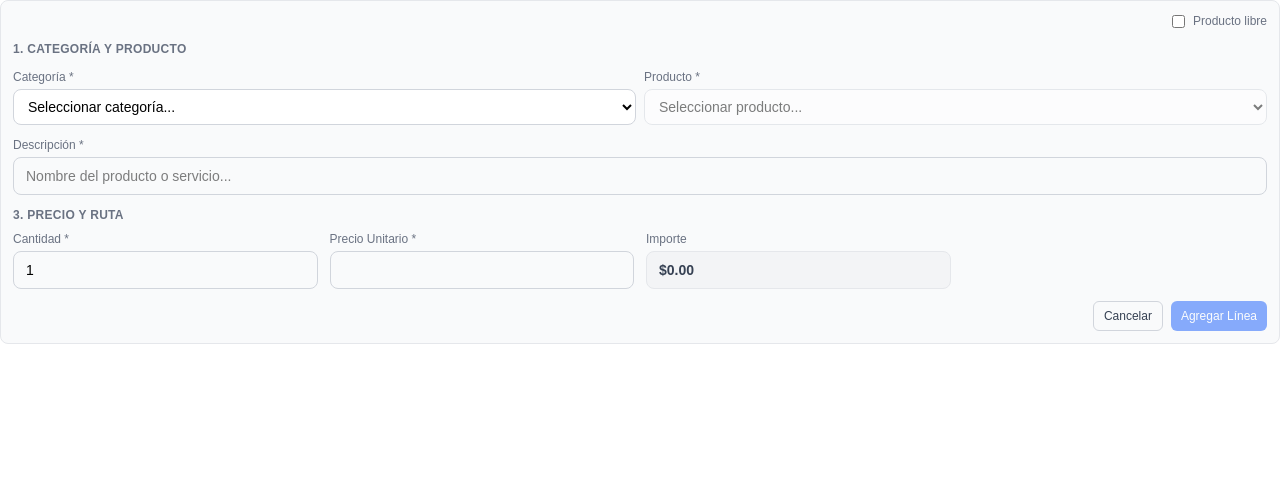
Test: LineaPedido (catálogo) › autocompleta el precio de lista y permite modificarlo
This screenshot has width=1280, height=477.
Select "Photo Books" in the dropdown below "Categoría *" at (324, 107), box top-left (13, 89), bottom-right (636, 125)
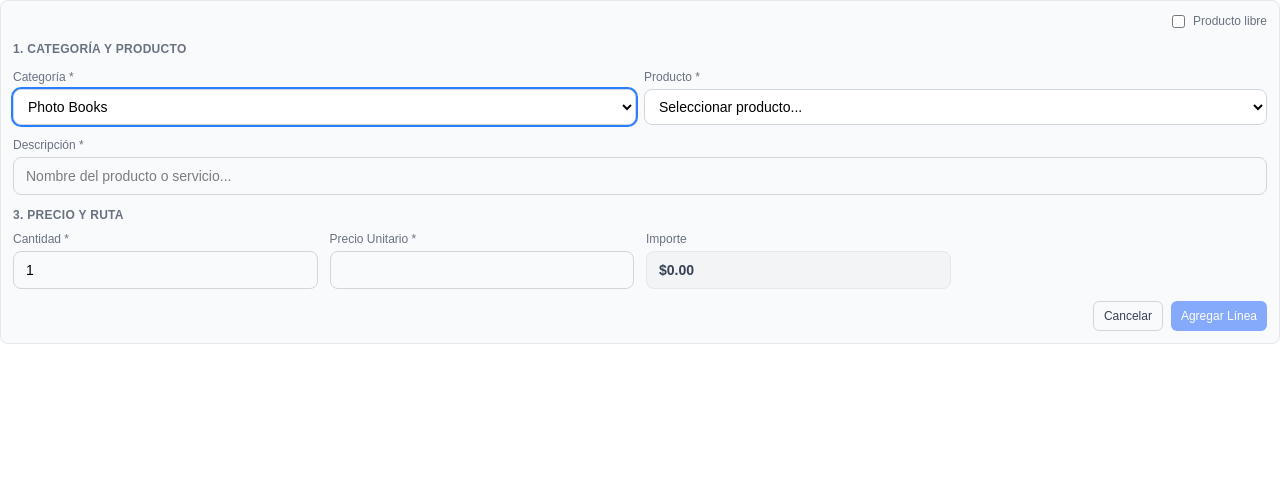
Select "Color Book Pasta Dura" in the dropdown below "Producto *" at (956, 107), box top-left (644, 89), bottom-right (1267, 125)
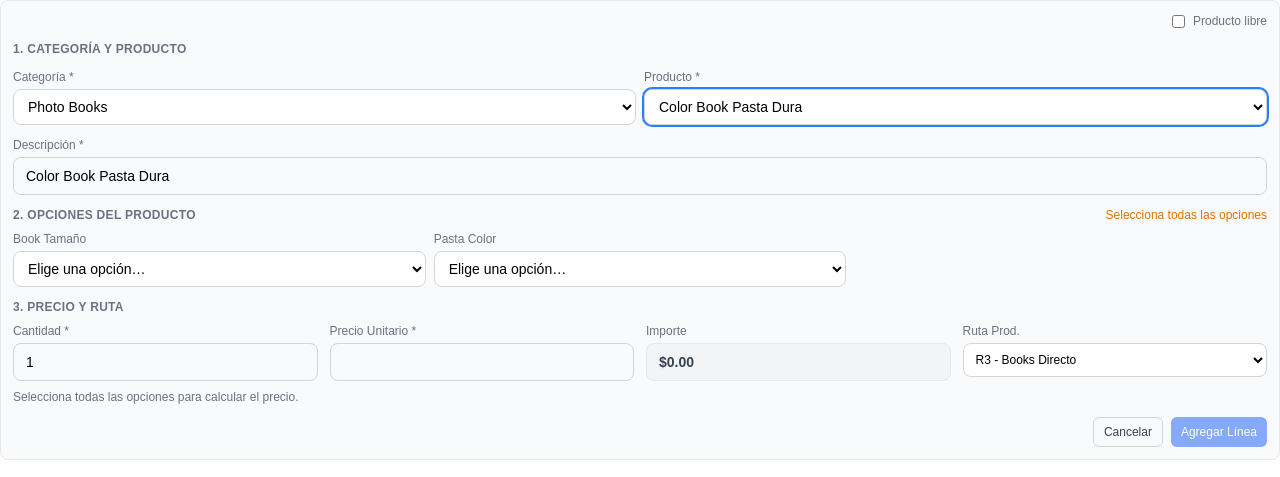
Select "8x10\"" in the dropdown below "Book Tamaño" at (219, 269), box top-left (13, 251), bottom-right (426, 287)
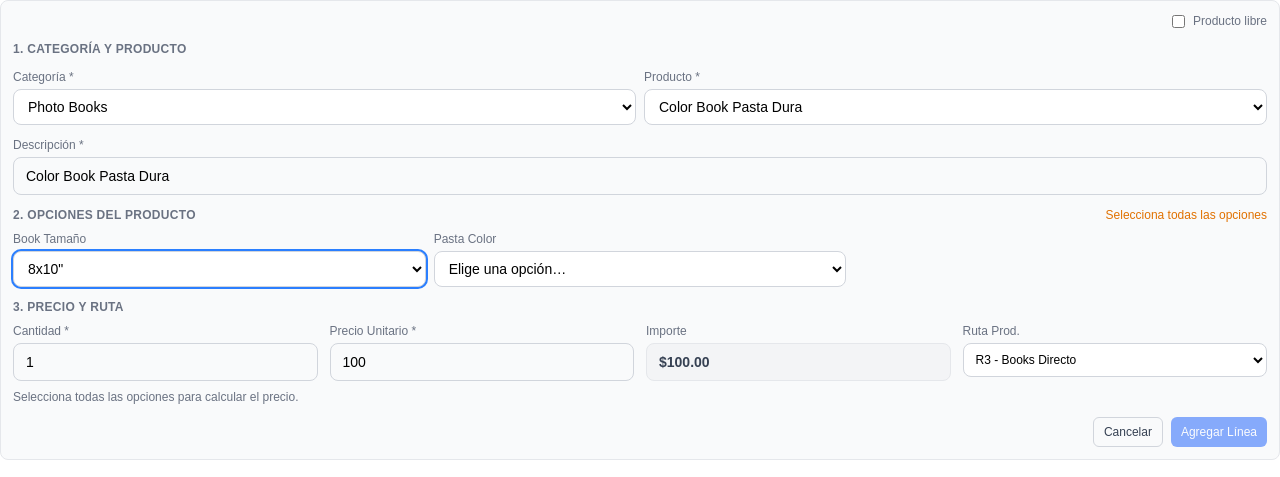
Select "Negro" in the dropdown below "Pasta Color" at (640, 269), box top-left (434, 251), bottom-right (846, 287)
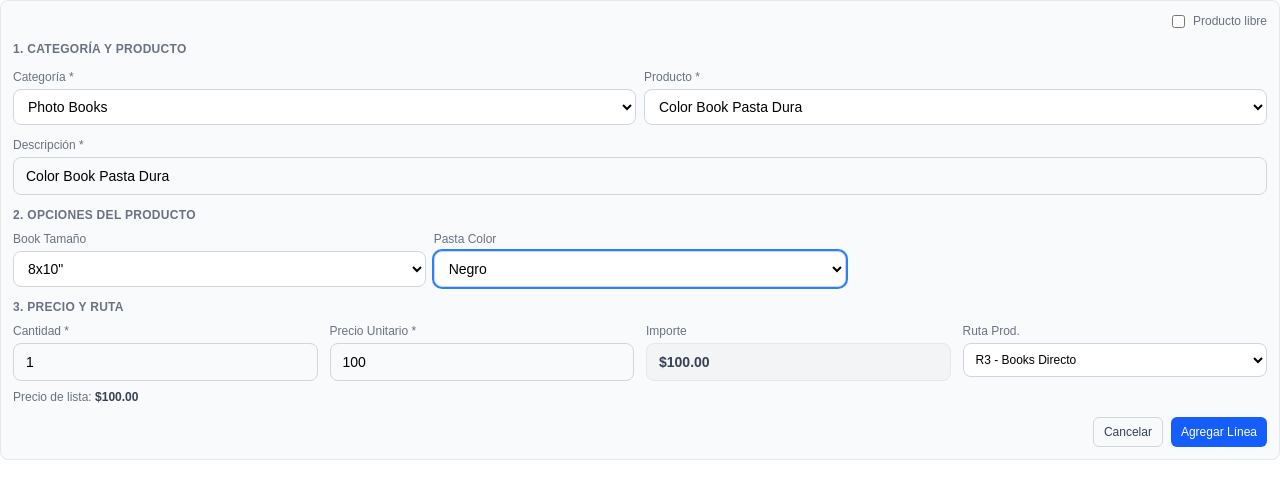
expect the number field below "Precio Unitario *" holds "100": met
expect the text "Precio de lista: $100.00" is shown: met, box top-left (13, 389), bottom-right (138, 405)
Replace the text in the number field below "Precio Unitario *" with "80" at (482, 362), box top-left (330, 343), bottom-right (634, 381)
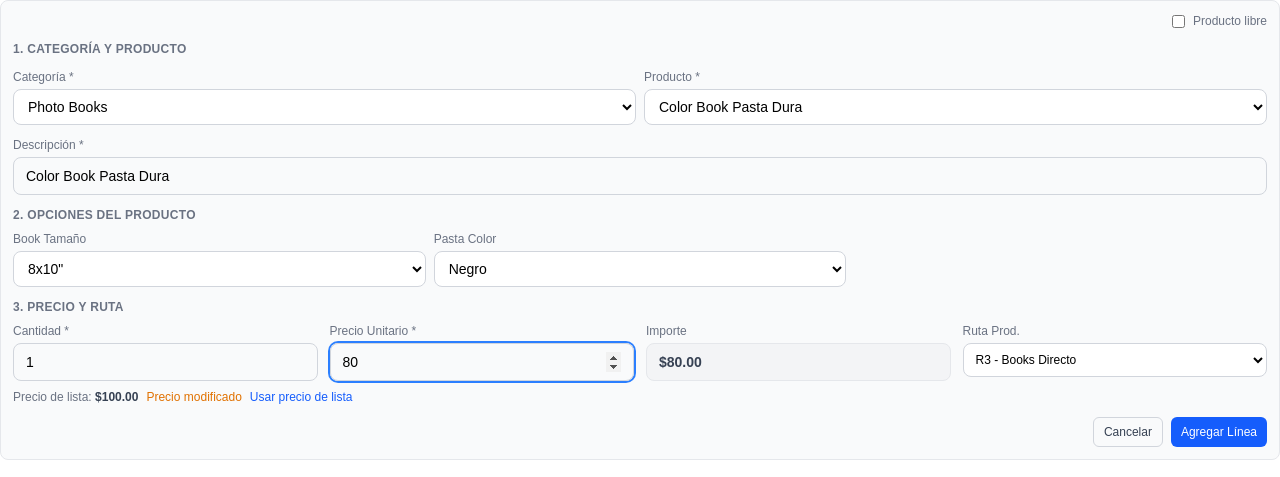
expect the text "Precio modificado" is shown: met, box top-left (146, 389), bottom-right (242, 405)
Click the button "Usar precio de lista" at (301, 397), box top-left (250, 389), bottom-right (352, 405)
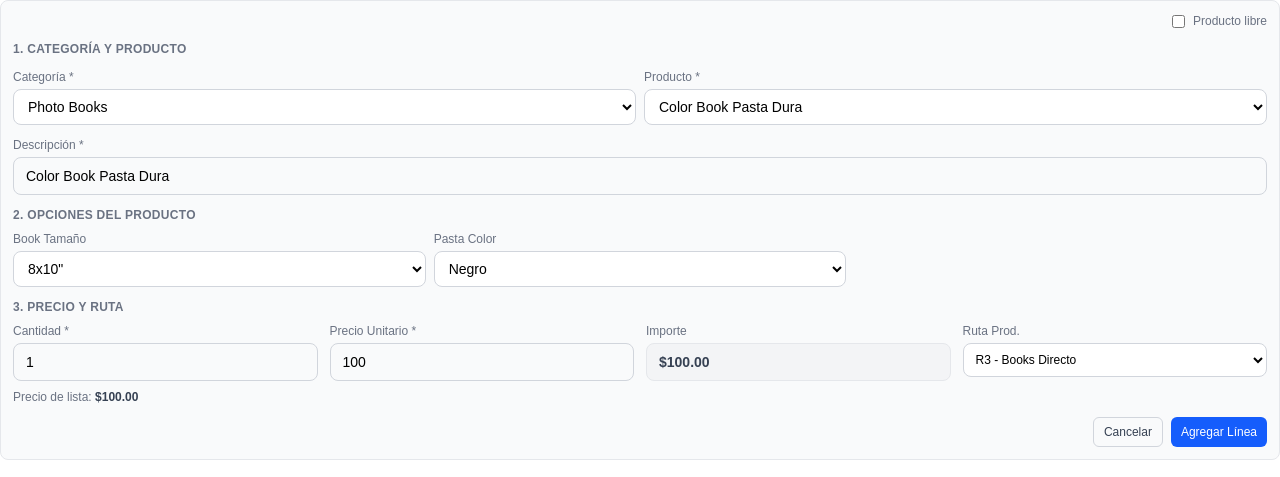
expect the number field below "Precio Unitario *" holds "100": met, box top-left (330, 343), bottom-right (634, 381)
